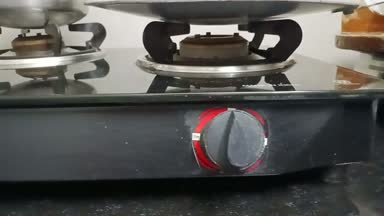noflame_gason: (157, 19, 281, 177)
